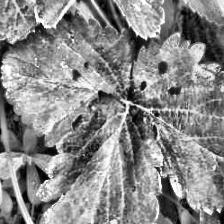Leaf Spot: (0, 8, 137, 148), (128, 31, 224, 216), (35, 89, 163, 224), (0, 0, 88, 45)
